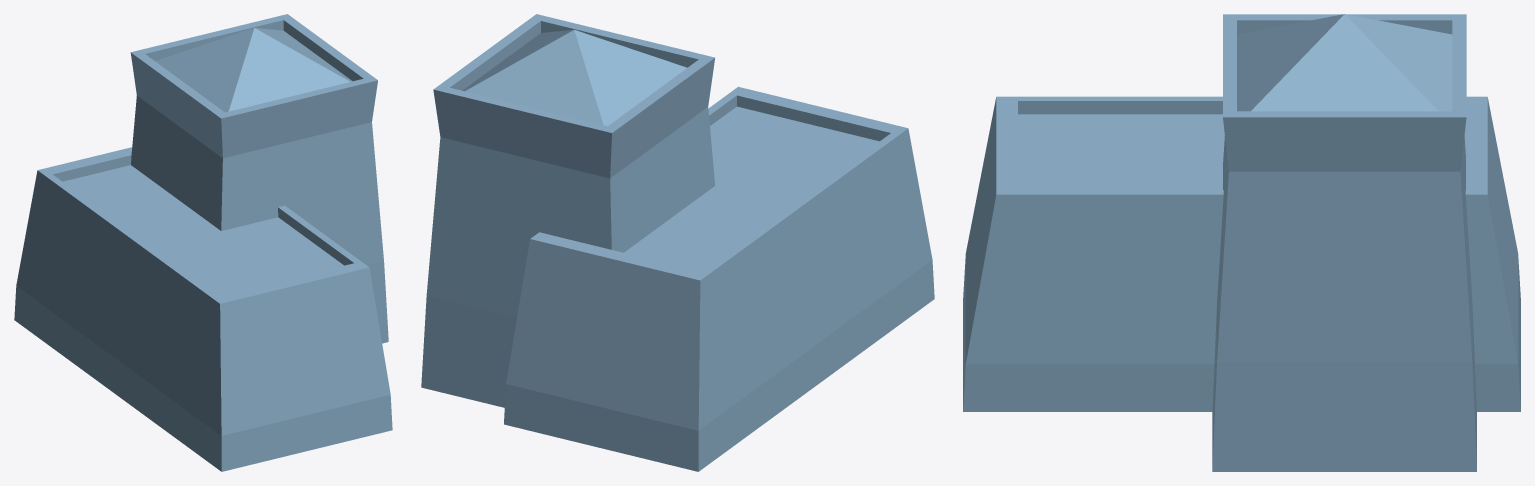
File: Fortress.fbx
3 renders of one model, left to right at view 1: azimuth 30°, elevation 25°; view 2: azimuth 150°, elevation 25°; view 3: azimuth 270°, elevation 25°, orthographic. The views are drawn at different scales.
Parts seen in each view (by area): view 1: Plane.004; view 2: Plane.004; view 3: Plane.004.
Boxes of the visible parts, x1,y1,x2,y2 form: Plane.004: (14, 14, 392, 471); Plane.004: (421, 14, 934, 471); Plane.004: (963, 14, 1520, 471).
Bounding box in the file's own units: 3.48 × 3.82 × 4.81.
